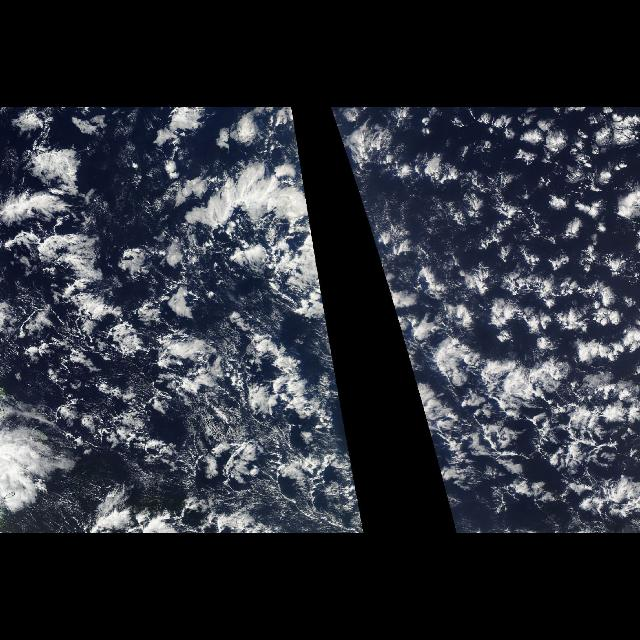Flower: (340, 108, 640, 428), (12, 113, 316, 361)
Gravel: (13, 273, 339, 529)
